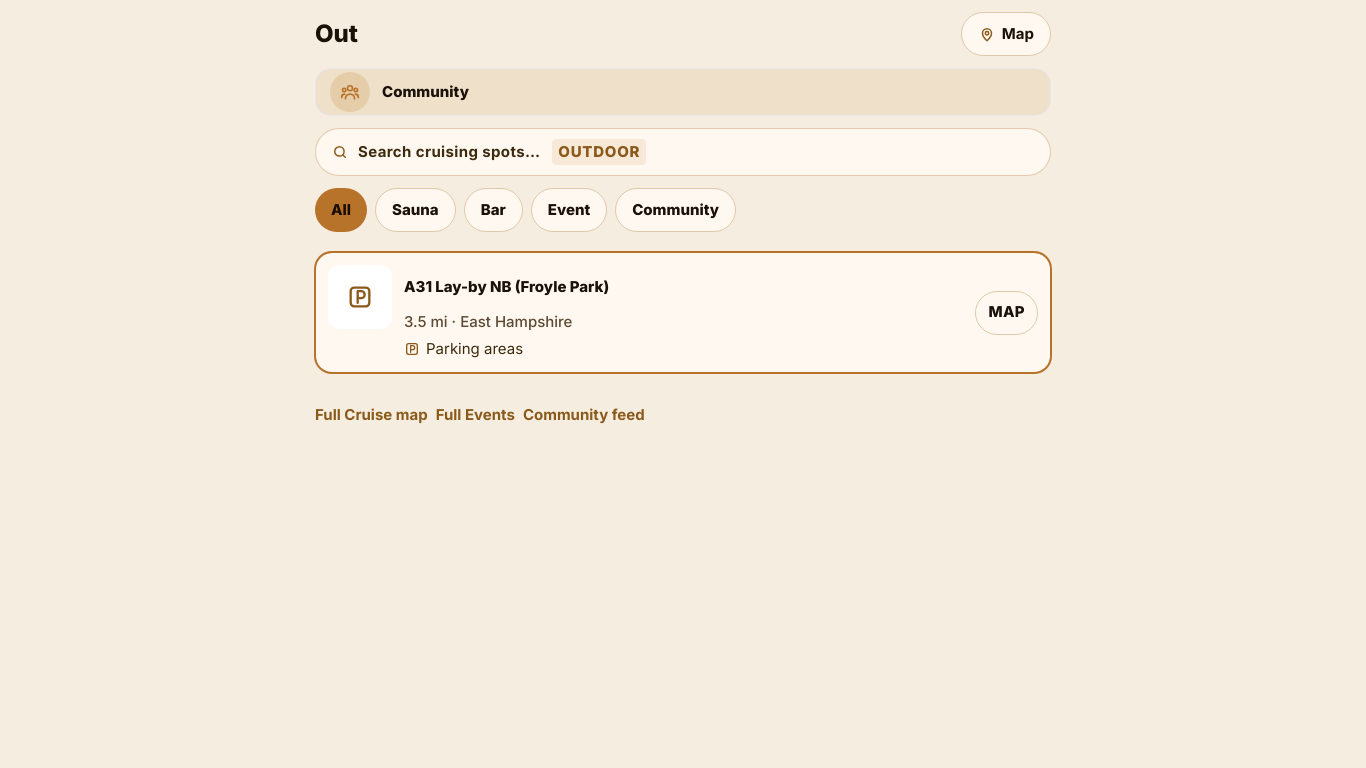
Test: Out spot card opens the spot sheet › Escape closes the sheet and returns focus to the card
Click the button "A31 Lay-by NB (Froyle Park)" at x=507, y=286, box [404,265,963,309]
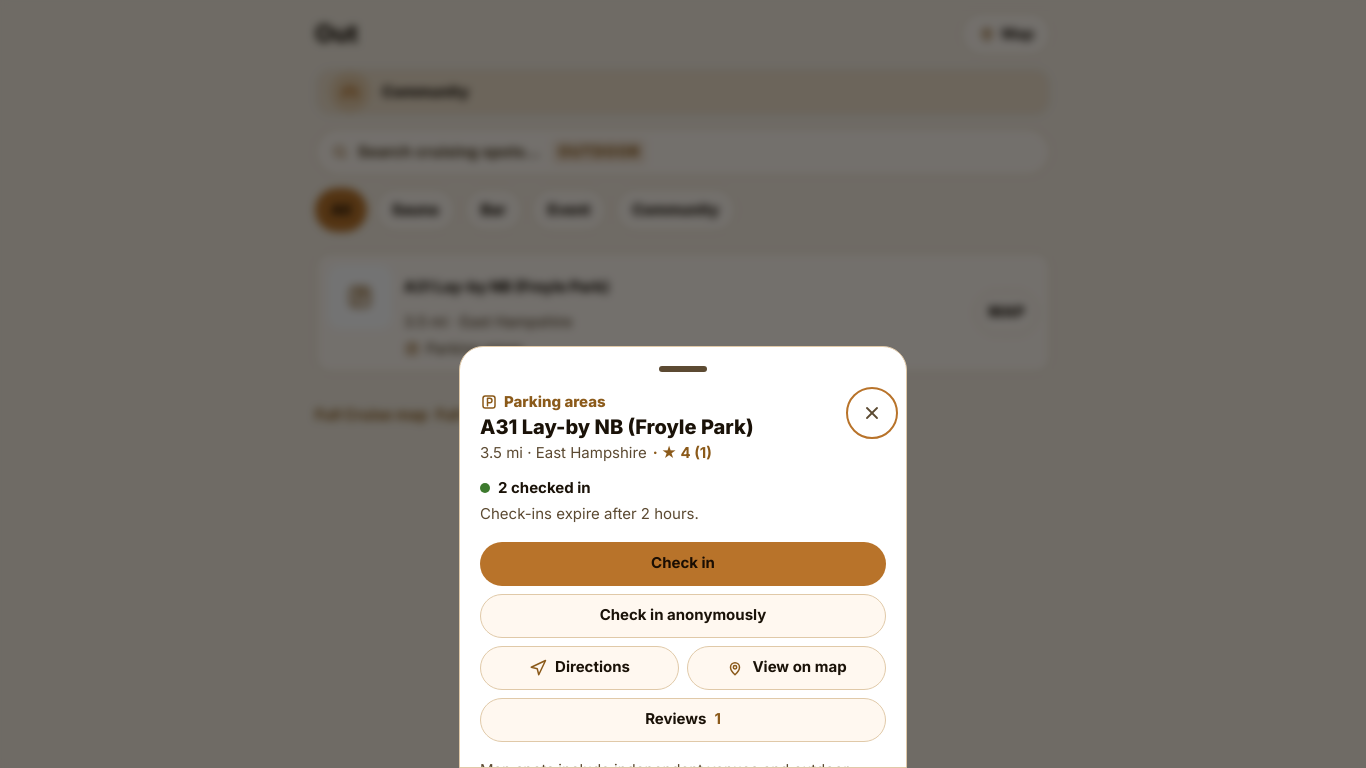
Result: the dialog with test id "hotspot-sheet" is shown at [459,346,907,767]
Press Escape
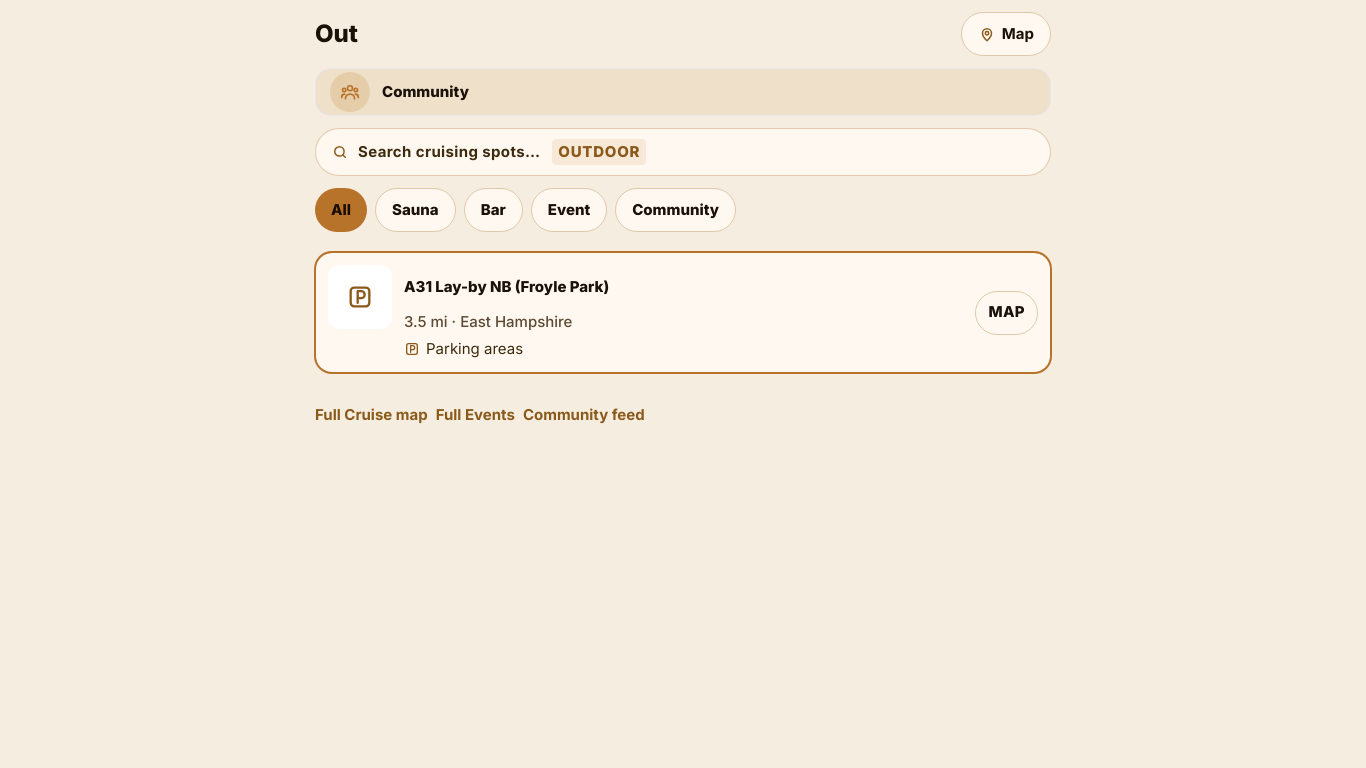
Result: the dialog with test id "hotspot-sheet" is gone
